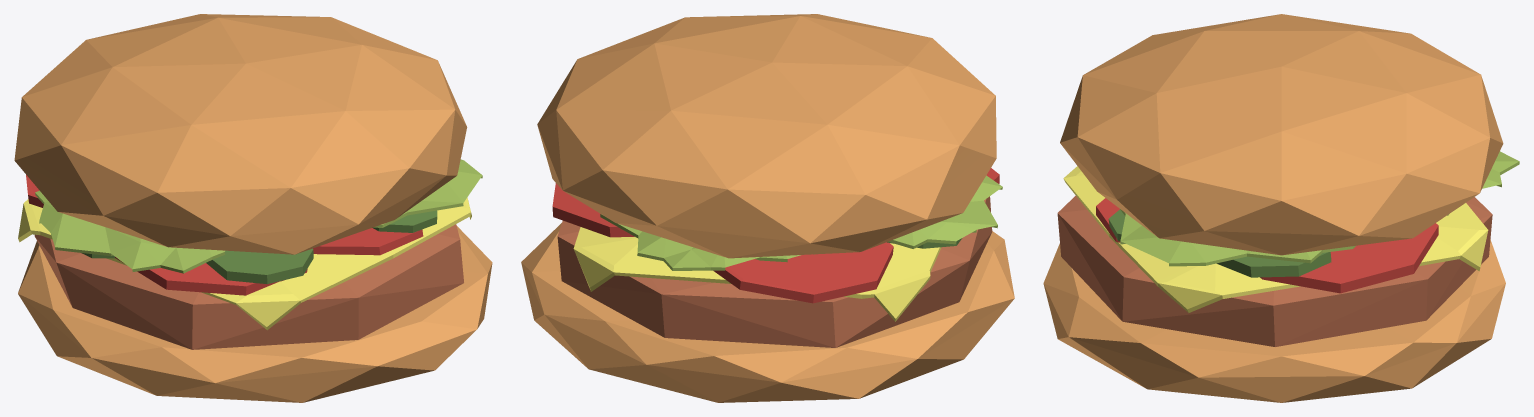
The model's file is Burger_01.fbx.
3 views of the same model, side by side, from view 1: azimuth 30°, elevation 25°; view 2: azimuth 150°, elevation 25°; view 3: azimuth 270°, elevation 25° (orthographic). The views are drawn at different scales.
Parts seen in each view (by area): view 1: Burger_01; view 2: Burger_01; view 3: Burger_01.
Boxes of the visible parts, bbox=[...] form: Burger_01: bbox=[14, 14, 492, 402]; Burger_01: bbox=[521, 14, 1014, 402]; Burger_01: bbox=[1043, 14, 1519, 402].
Size of the model in its own units: 16.93 by 10.5 by 17.29.
